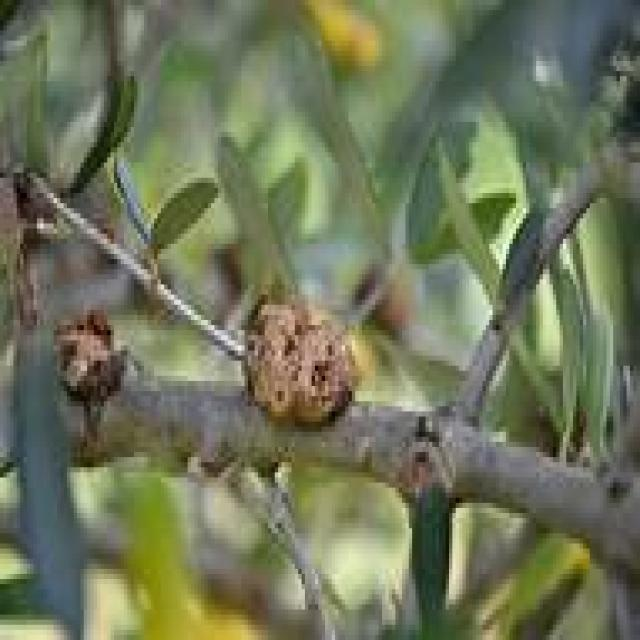Tuberculosis: (245, 295, 359, 422), (60, 310, 124, 413)
